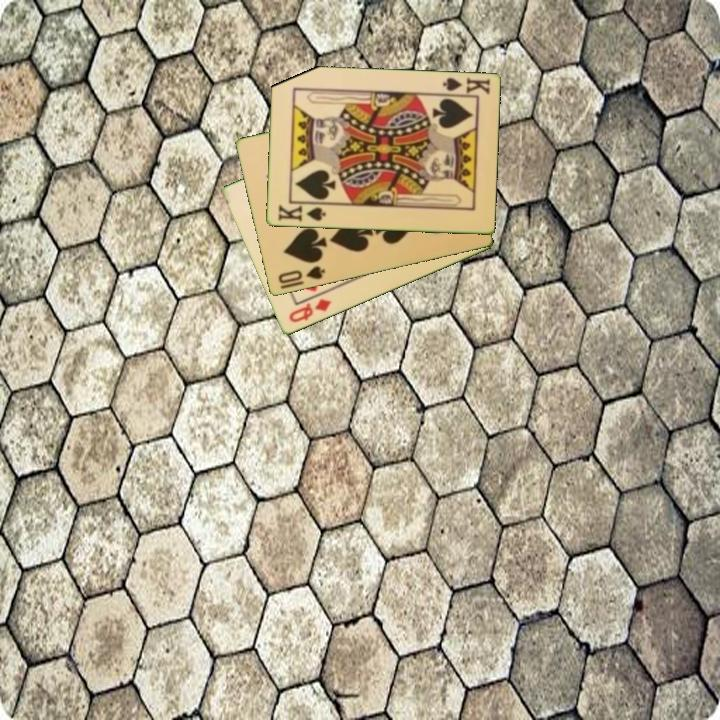10s: (274, 263, 328, 287)
Ks: (437, 74, 493, 99), (274, 200, 328, 225)
Qd: (285, 295, 334, 326)
